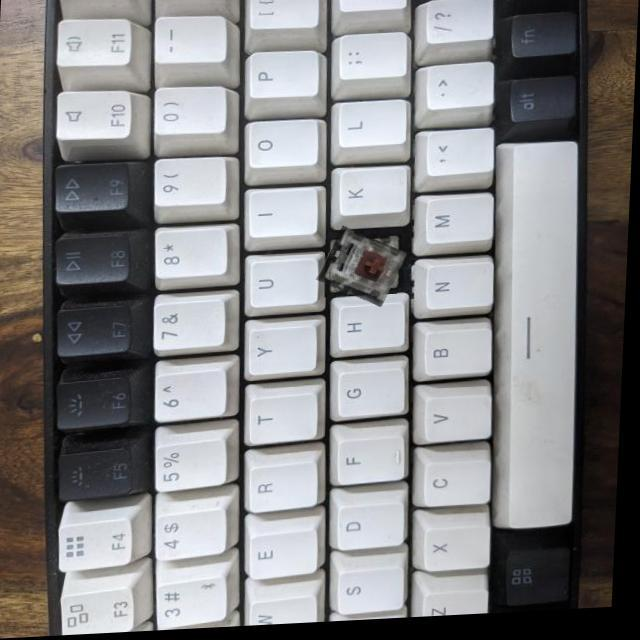key-switch: (321, 234, 405, 307)
